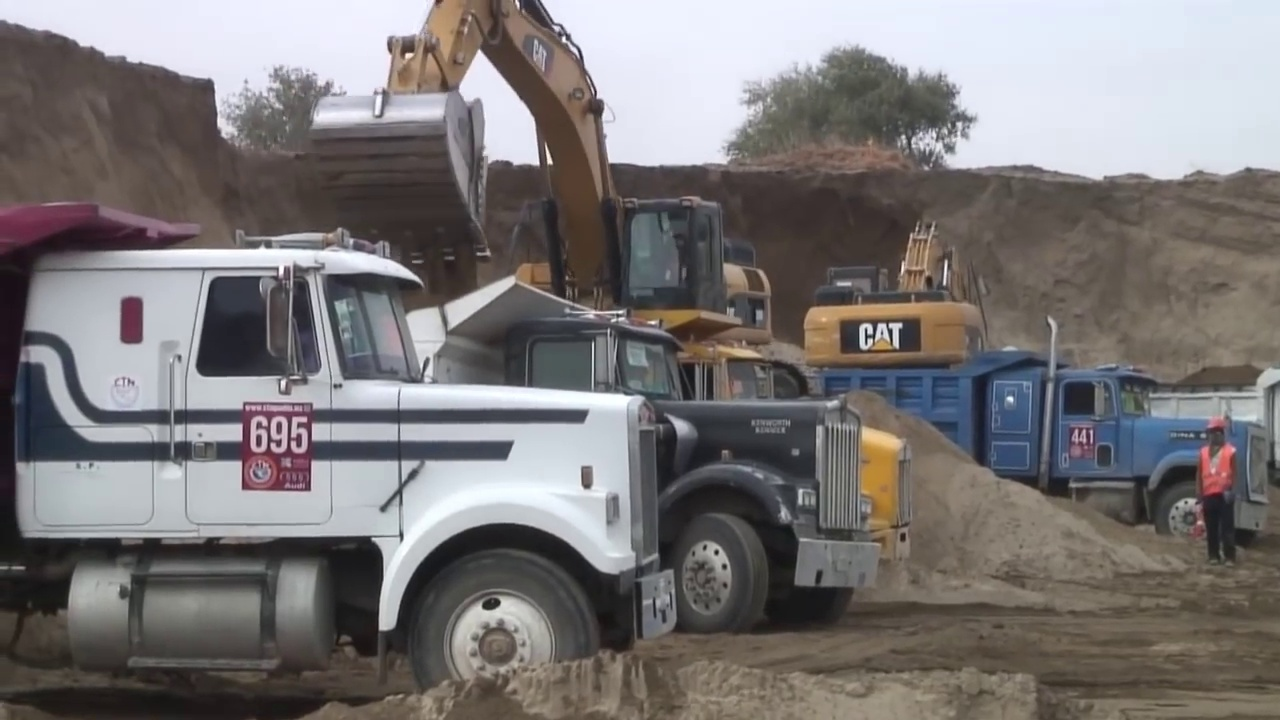excavator: (307, 1, 907, 469), (789, 222, 1001, 452)
person: (1196, 417, 1243, 570)
truck: (6, 197, 676, 681), (78, 250, 880, 621), (770, 350, 1278, 564)
